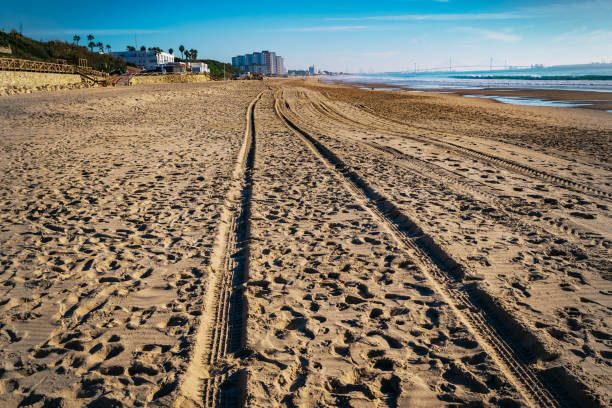human_footprint: (275, 90, 575, 406), (318, 100, 611, 198), (175, 92, 262, 407), (351, 138, 602, 242), (72, 272, 130, 310), (90, 310, 138, 343), (303, 262, 341, 302), (36, 292, 82, 320), (290, 317, 331, 346), (84, 342, 126, 368), (364, 329, 406, 355), (56, 379, 100, 400), (348, 360, 376, 392), (360, 306, 391, 329), (28, 346, 74, 359), (81, 248, 111, 267), (69, 174, 109, 188), (46, 207, 72, 228), (139, 262, 155, 290), (88, 204, 107, 223), (128, 239, 148, 250), (112, 286, 145, 292), (98, 231, 116, 241)
